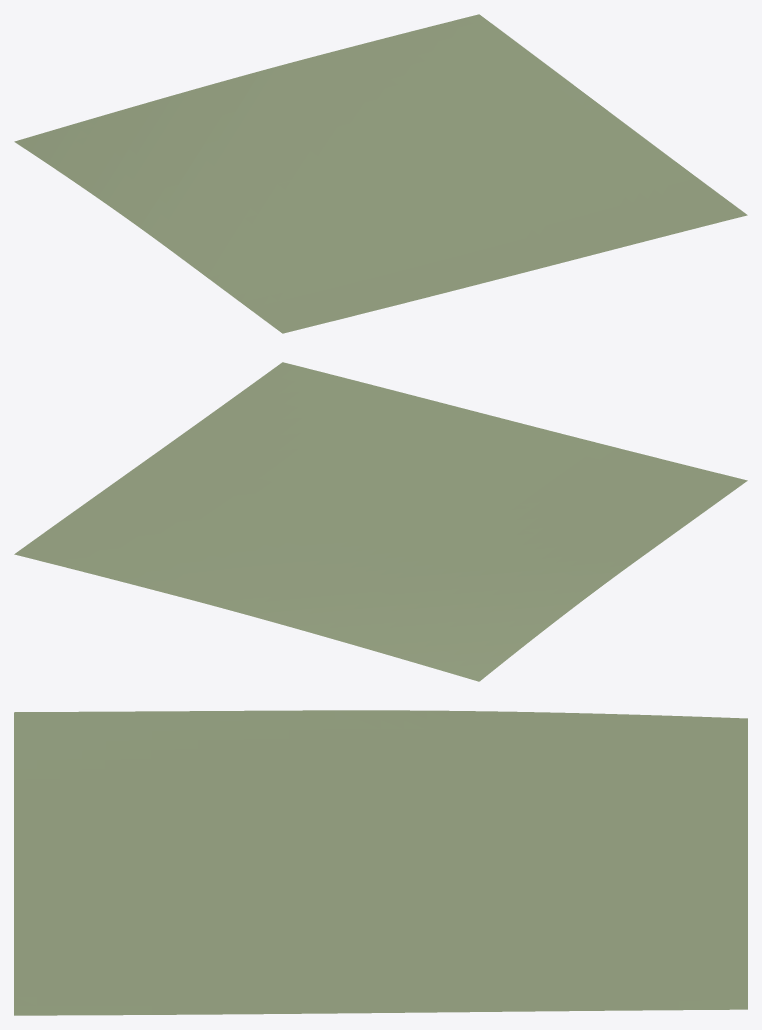
The model's file is desert-11-26.glb.
3 views of the same model, one above another, from view 1: azimuth 30°, elevation 25°; view 2: azimuth 150°, elevation 25°; view 3: azimuth 270°, elevation 25° (orthographic). The views are drawn at different scales.
Visible parts, largest first — view 1: desert-11-26; view 2: desert-11-26; view 3: desert-11-26.
Part boxes in pixels (x1,y1,x2,y2): desert-11-26: (14,14,747,333); desert-11-26: (14,362,747,681); desert-11-26: (14,710,747,1015).
Bounding box in the file's own units: 512 × 14.6 × 512.
